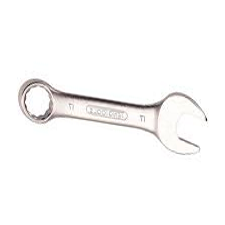wrench: (19, 60, 211, 160)
